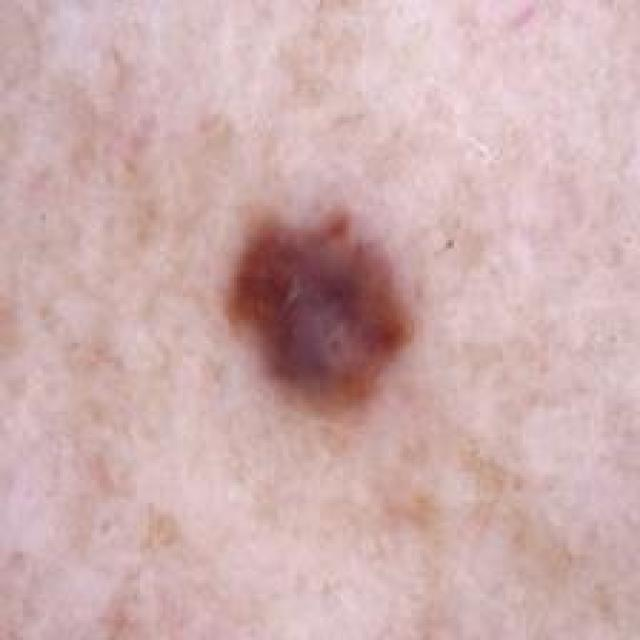Cancer: (223, 200, 414, 409)
